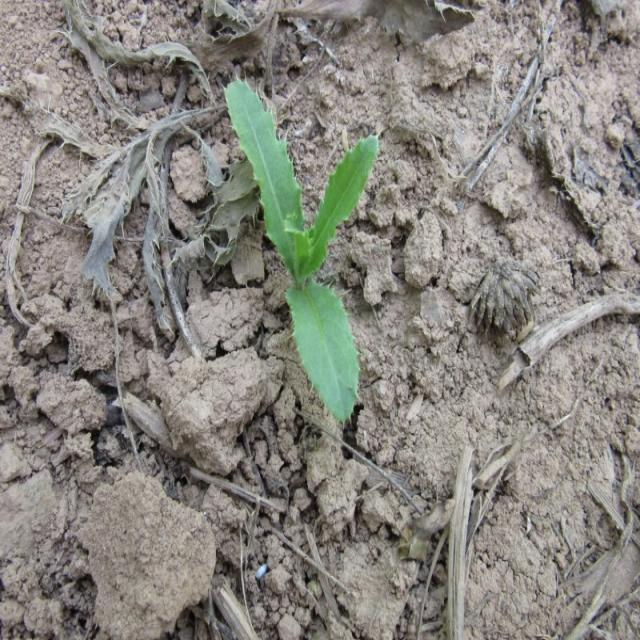field_thistle: (212, 67, 384, 427)
